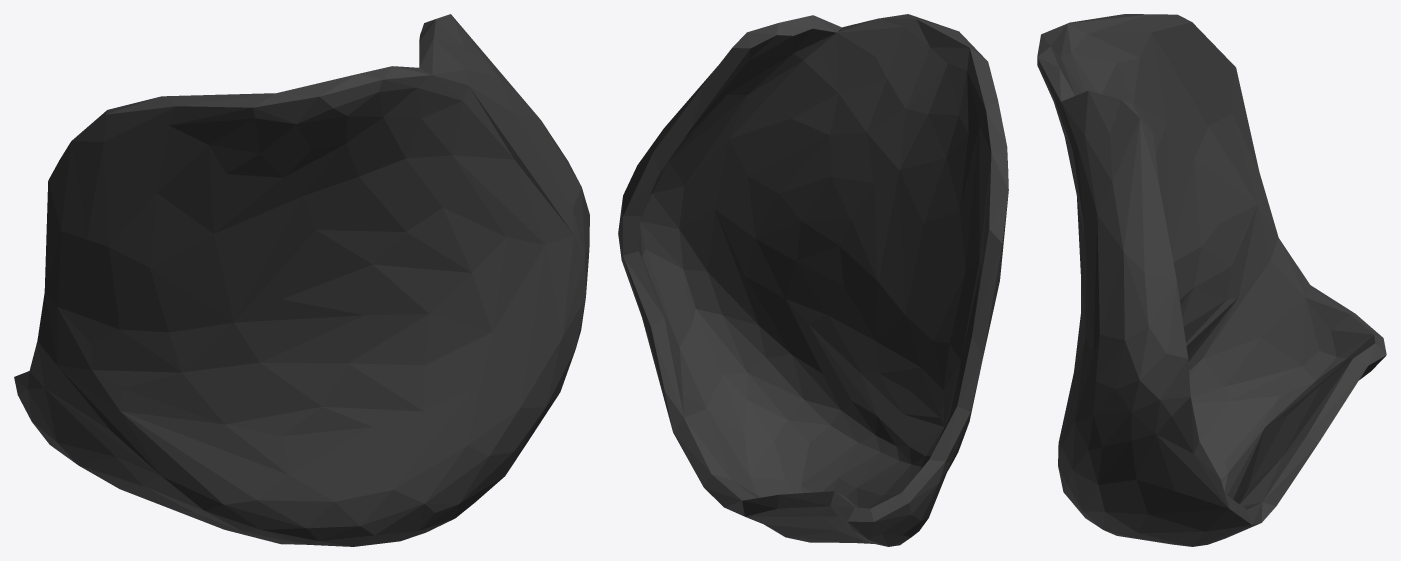
Rendered from Tibia_lateral_condyle.glb.
3 views of the same model, side by side, from view 1: azimuth 30°, elevation 25°; view 2: azimuth 150°, elevation 25°; view 3: azimuth 270°, elevation 25° (orthographic). The views are drawn at different scales.
Parts seen in each view (by area): view 1: Tibia_lateral_condyle; view 2: Tibia_lateral_condyle; view 3: Tibia_lateral_condyle.
Boxes of the visible parts, <box> form: Tibia_lateral_condyle: <box>14,14,589,546</box>; Tibia_lateral_condyle: <box>618,14,1008,546</box>; Tibia_lateral_condyle: <box>1037,14,1386,546</box>.
Size of the model in its own units: 0.0289 by 0.0306 by 0.0207.
1 material, 1 textured.
